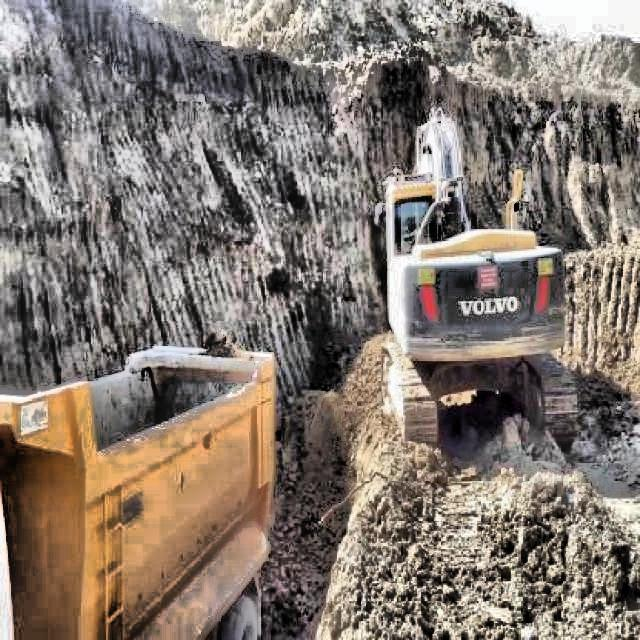dump_truck: (0, 338, 275, 639)
excavator: (374, 104, 580, 453)
